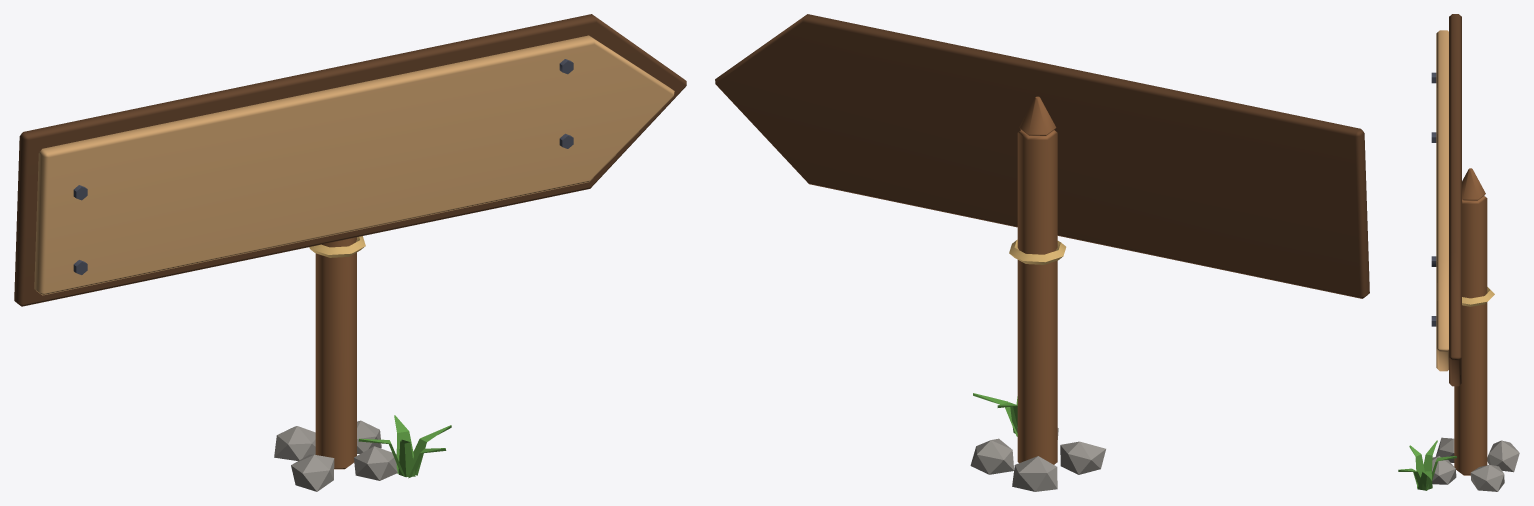
The model's file is zone-sign.glb.
3 views of the same model, side by side, from view 1: azimuth 30°, elevation 25°; view 2: azimuth 150°, elevation 25°; view 3: azimuth 270°, elevation 25° (orthographic). The views are drawn at different scales.
Parts seen in each view (by area): view 1: ZoneSign_SignBoard, ZoneSign_Frame, ZoneSign_Post, ZoneSign_Stones, ZoneSign_Grass, ZoneSign_Nails; view 2: ZoneSign_Frame, ZoneSign_Post, ZoneSign_Stones; view 3: ZoneSign_Post, ZoneSign_Frame, ZoneSign_SignBoard, ZoneSign_Stones, ZoneSign_Grass, ZoneSign_Rope, ZoneSign_Nails.
Boxes of the visible parts, x1,y1,x2,y2 form: ZoneSign_SignBoard: [34, 35, 674, 295]; ZoneSign_Frame: [14, 14, 686, 306]; ZoneSign_Post: [315, 237, 356, 469]; ZoneSign_Stones: [274, 420, 397, 491]; ZoneSign_Grass: [358, 415, 451, 478]; ZoneSign_Nails: [73, 59, 573, 274]; ZoneSign_Frame: [715, 14, 1369, 298]; ZoneSign_Post: [1017, 96, 1057, 464]; ZoneSign_Stones: [970, 428, 1105, 491]; ZoneSign_Post: [1454, 168, 1487, 475]; ZoneSign_Frame: [1449, 14, 1461, 386]; ZoneSign_SignBoard: [1436, 30, 1448, 371]; ZoneSign_Stones: [1432, 437, 1519, 491]; ZoneSign_Grass: [1398, 440, 1456, 490]; ZoneSign_Rope: [1462, 287, 1494, 306]; ZoneSign_Nails: [1431, 72, 1436, 326].
Size of the model in its own units: 9.35 by 5.59 by 1.84.
